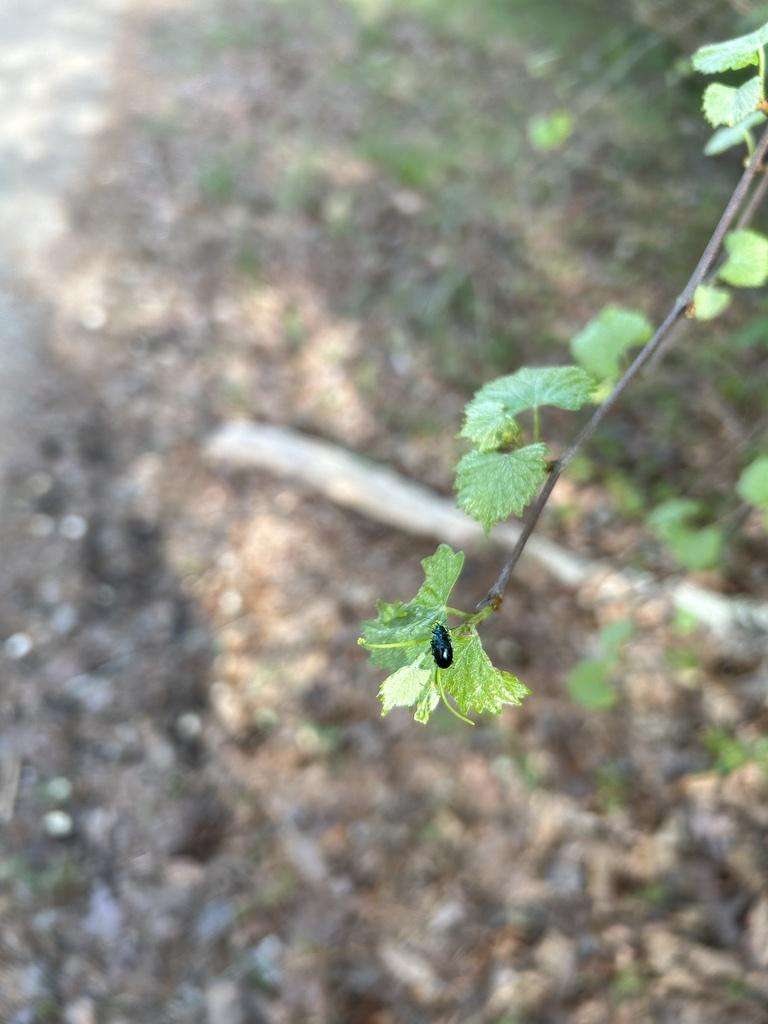flea_beetle: (417, 612, 470, 683)
